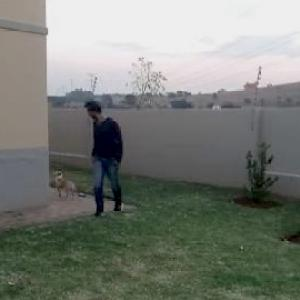follow: (84, 90, 124, 222)
